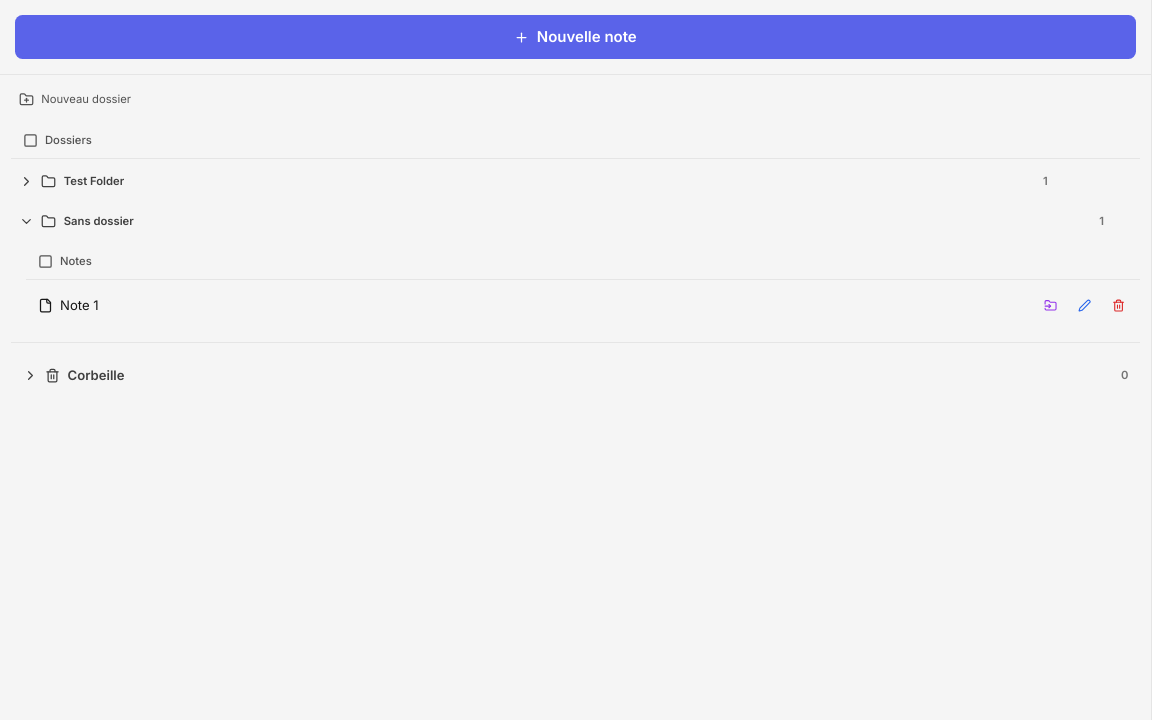
Scenario: Sidebar › Folder Management › should show folder creation input when clicking new folder
Click the button "Nouveau dossier": (86, 99) top-left (11, 86), bottom-right (1140, 113)
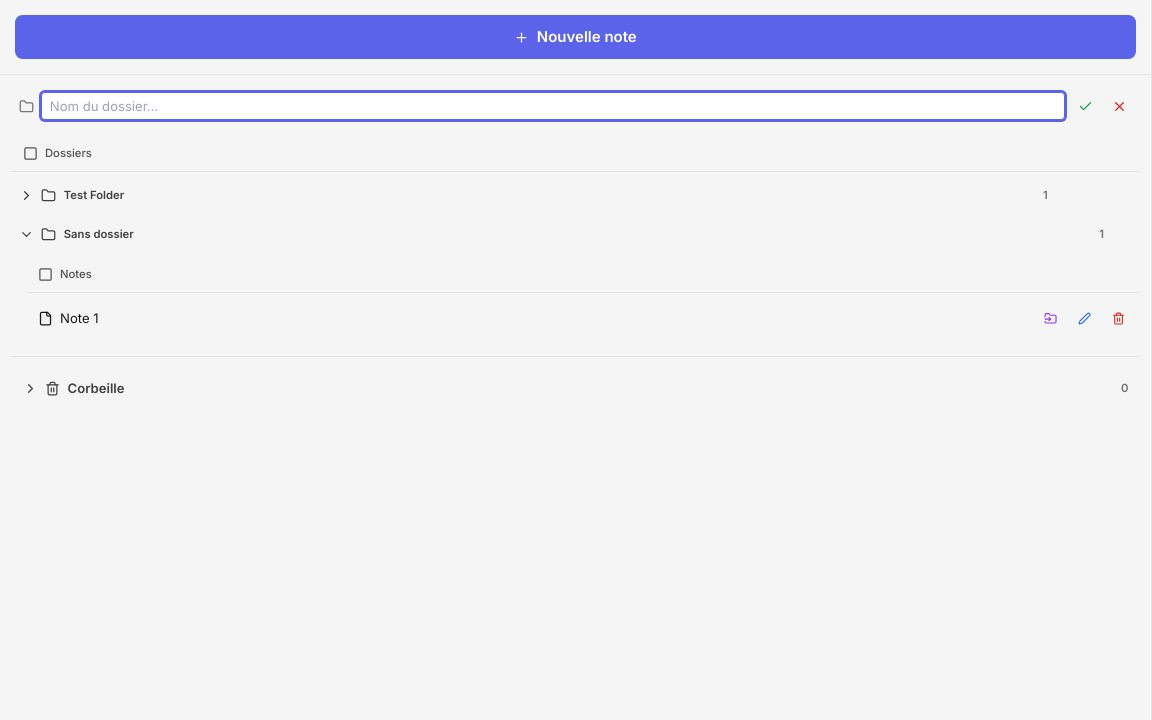
Expected: the field with placeholder "Nom du dossier..." is shown, top-left (41, 92), bottom-right (1065, 120)
